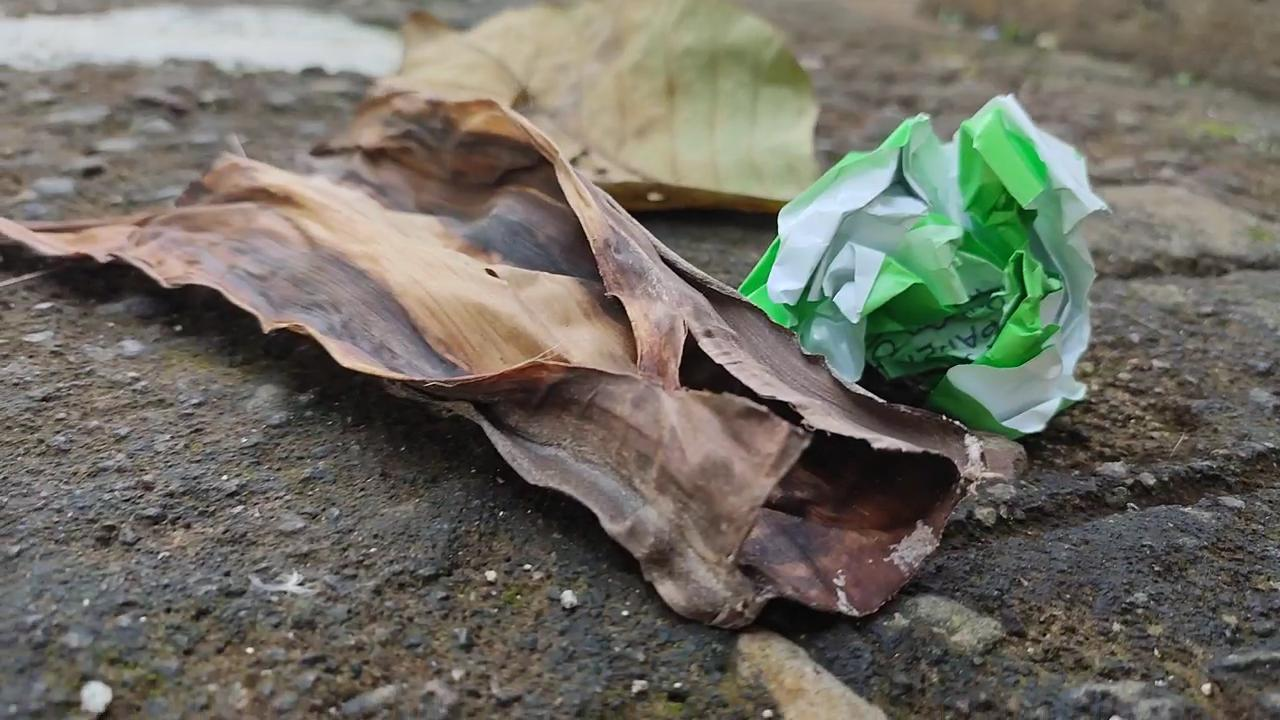Paper: (752, 83, 1105, 461)
